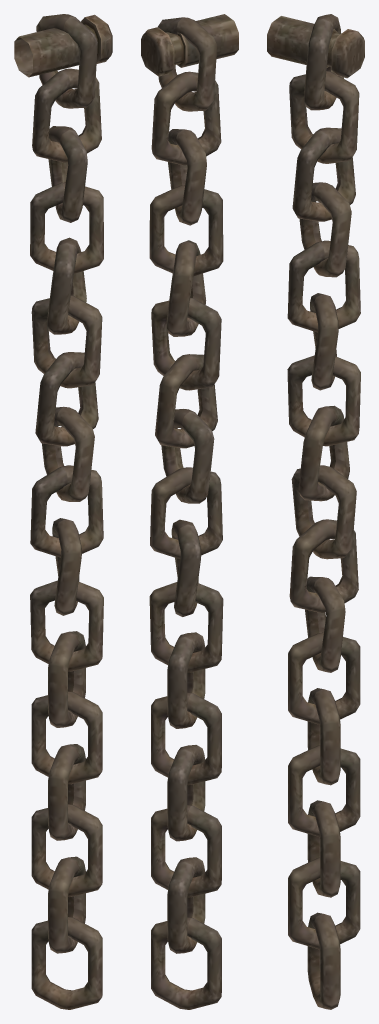
3 views of the same model, side by side, from view 1: azimuth 30°, elevation 25°; view 2: azimuth 210°, elevation 25°; view 3: azimuth 330°, elevation 25° (orthographic).
Visible parts, largest first — view 1: SM_DR_Chain_Str_01_LOD0; view 2: SM_DR_Chain_Str_01_LOD0; view 3: SM_DR_Chain_Str_01_LOD0.
Part boxes in pixels (<box>): SM_DR_Chain_Str_01_LOD0: <box>14,14,112,1009</box>; SM_DR_Chain_Str_01_LOD0: <box>141,14,238,1009</box>; SM_DR_Chain_Str_01_LOD0: <box>267,14,364,1009</box>.
Size of the model in its own units: 0.388 by 4.61 by 0.3109.
1 material, 1 textured.
